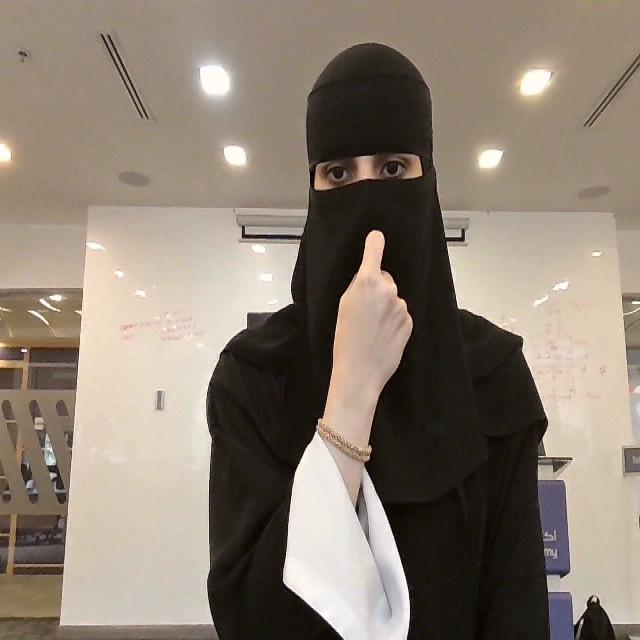medicine: (330, 228, 413, 399)
